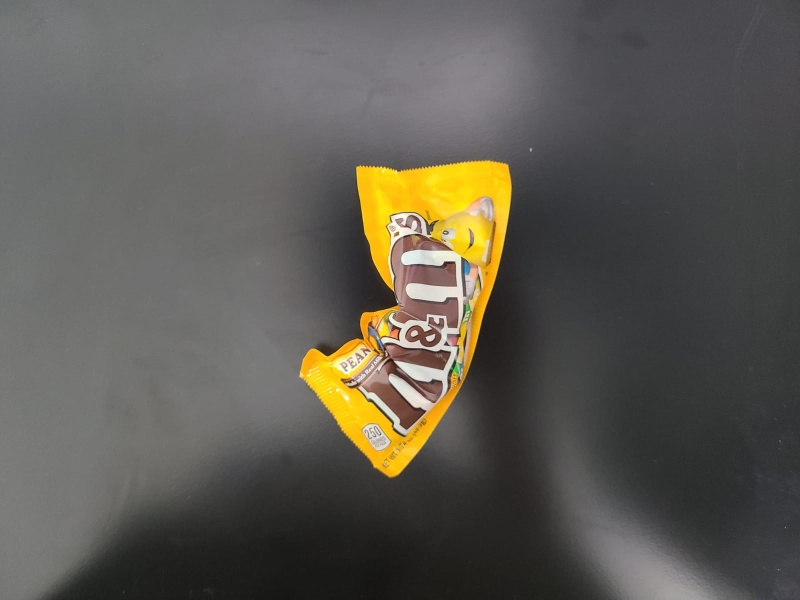m&m: (299, 163, 515, 482)
